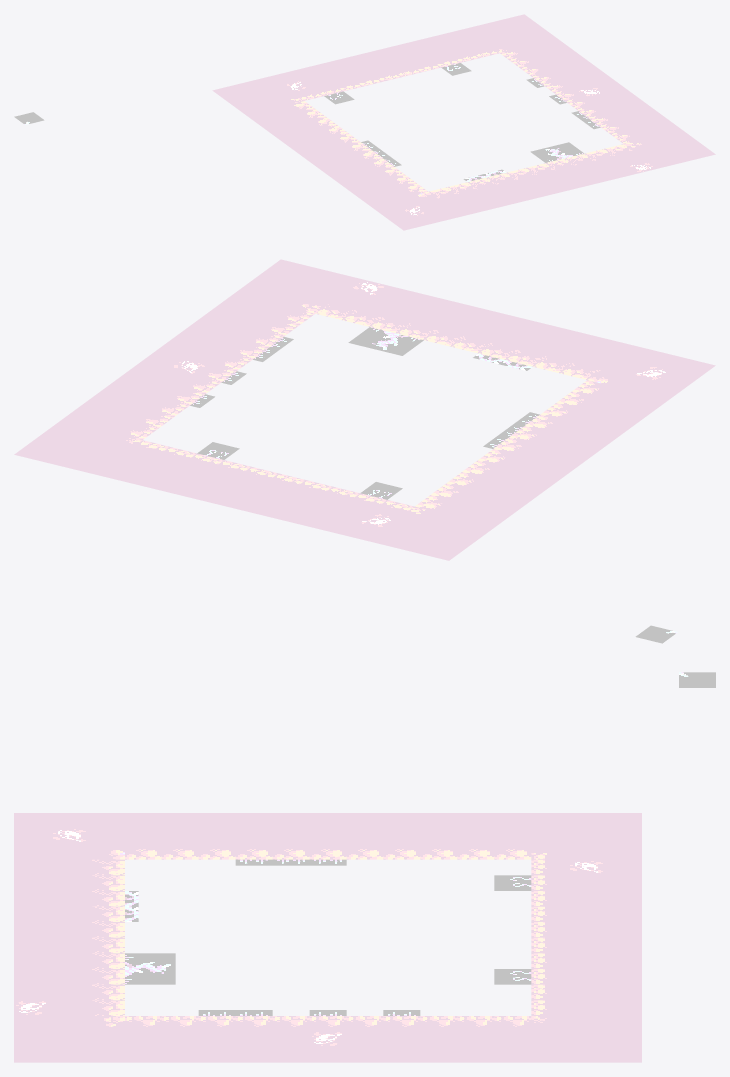
The picture shows the model from 3 angles, top to bottom: view 1: azimuth 30°, elevation 25°; view 2: azimuth 150°, elevation 25°; view 3: azimuth 270°, elevation 25°; orthographic projection. The views are drawn at different scales.
Visible parts, largest first — view 1: Cube; view 2: Cube; view 3: Cube.
Part boxes in pixels (bbox=[...]): Cube: bbox=[14, 14, 715, 230]; Cube: bbox=[14, 259, 715, 643]; Cube: bbox=[14, 672, 715, 1062].
Bounding box in the file's own units: 12.5 × 0 × 9.5.
